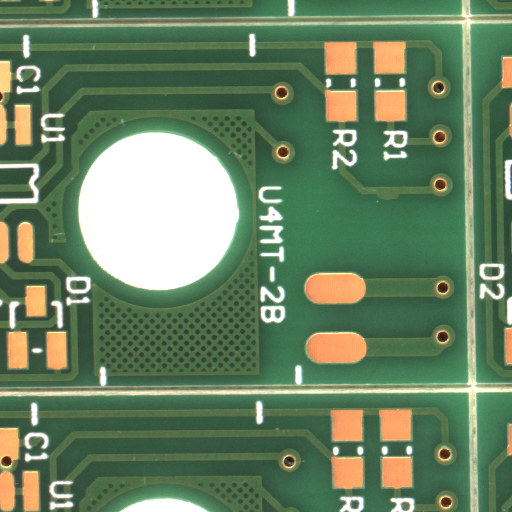Spur: (387, 195, 414, 206)
